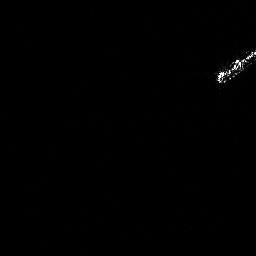ship: (211, 47, 256, 87)
